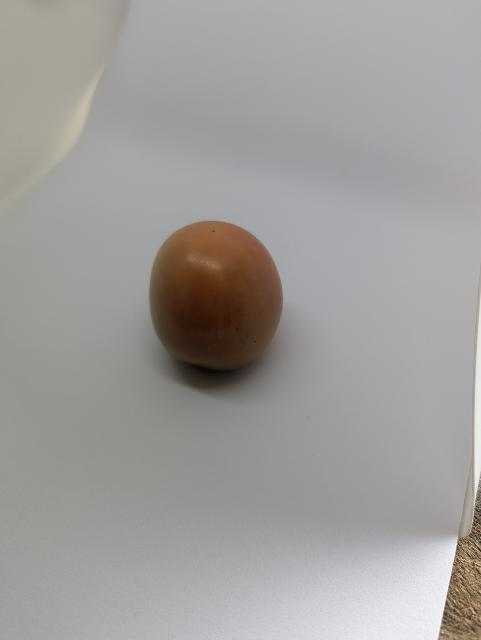turning: (136, 212, 293, 376)
